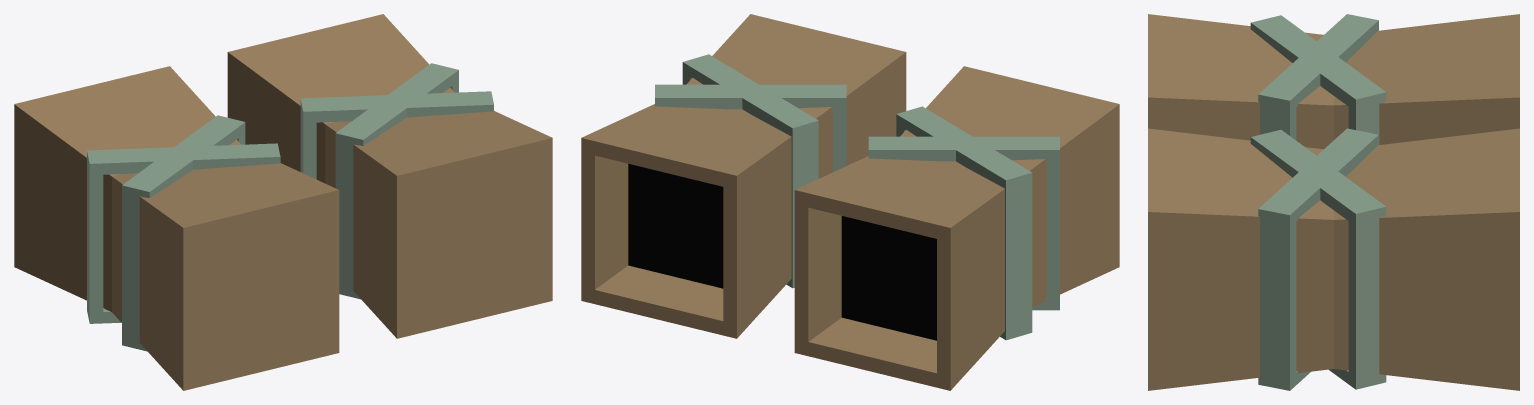
The model's file is rock_slinger_barrel(multishot1).fbx.
3 views of the same model, side by side, from view 1: azimuth 30°, elevation 25°; view 2: azimuth 150°, elevation 25°; view 3: azimuth 270°, elevation 25° (orthographic). The views are drawn at different scales.
Visible parts, largest first — view 1: barrel(multishot1); view 2: barrel(multishot1); view 3: barrel(multishot1).
Boxes of the visible parts, <box> form: barrel(multishot1): <box>14,14,552,390</box>; barrel(multishot1): <box>581,14,1119,390</box>; barrel(multishot1): <box>1148,14,1519,390</box>.
Bounding box in the file's own units: 60.27 × 24.99 × 47.04.
Materials: 2 (2 with a texture image).
